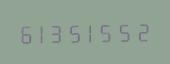five: (68, 20, 84, 44), (102, 19, 118, 43), (119, 19, 135, 43)
one: (34, 20, 50, 44), (85, 19, 101, 43)
six: (17, 21, 33, 44)
three: (51, 20, 67, 44)
two: (136, 19, 152, 42)
